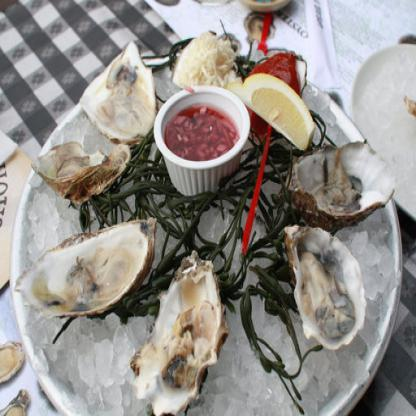oyster: (140, 256, 225, 415), (19, 219, 152, 318), (284, 224, 364, 348), (288, 139, 395, 222), (86, 45, 156, 144), (35, 140, 126, 200)
